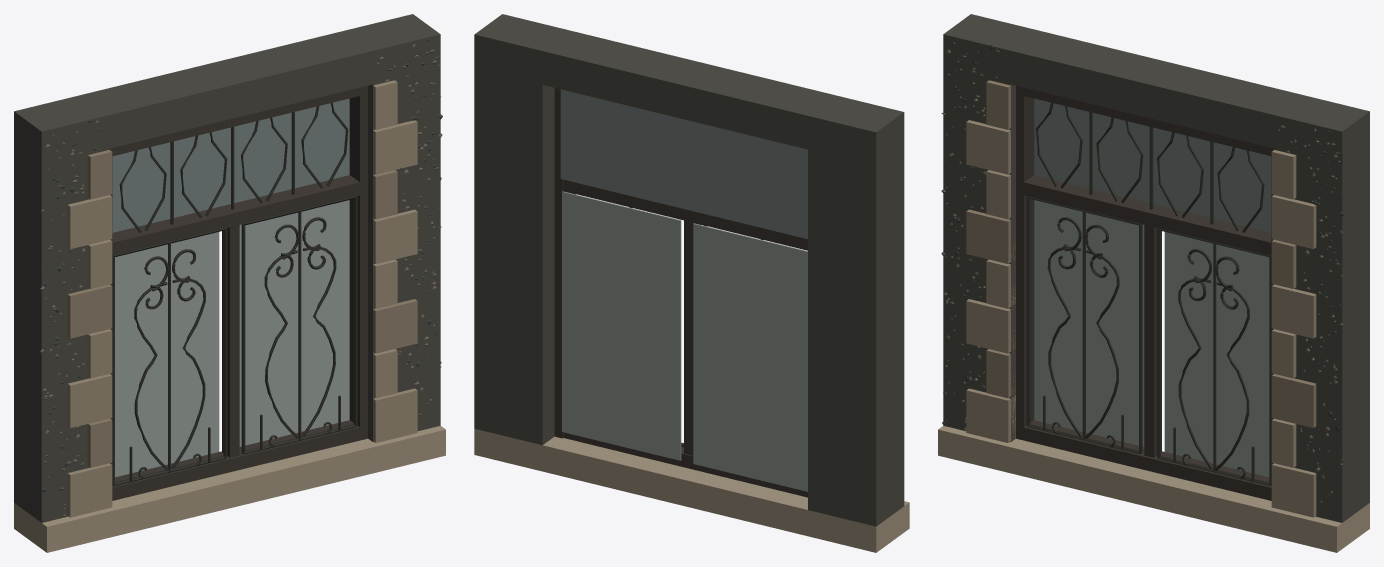
The model's file is jingan-shandao-hall-court-window-lod.glb.
3 views of the same model, side by side, from view 1: azimuth 30°, elevation 25°; view 2: azimuth 150°, elevation 25°; view 3: azimuth 330°, elevation 25° (orthographic).
Parts seen in each view (by area): view 1: 善道堂旧址院门旁二层错石窗套与铁花格窗; view 2: 善道堂旧址院门旁二层错石窗套与铁花格窗; view 3: 善道堂旧址院门旁二层错石窗套与铁花格窗.
Boxes of the visible parts, box(x1,y1,x2,y2) form: 善道堂旧址院门旁二层错石窗套与铁花格窗: box(14, 14, 445, 552); 善道堂旧址院门旁二层错石窗套与铁花格窗: box(474, 14, 909, 552); 善道堂旧址院门旁二层错石窗套与铁花格窗: box(938, 14, 1369, 552).
Size of the model in its own units: 2.26 by 2.25 by 0.321.
